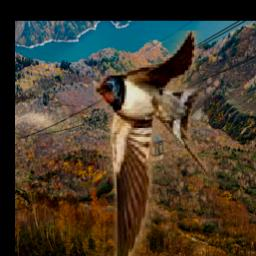Swallow: (94, 32, 239, 256)
